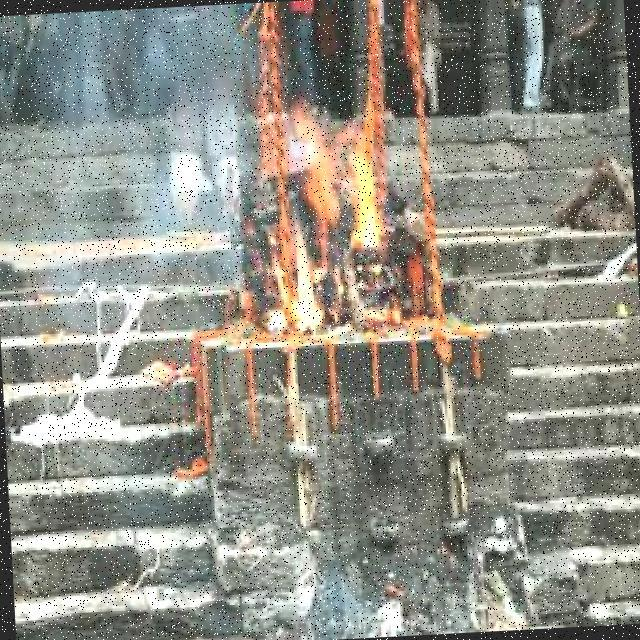Fire: (258, 98, 398, 334)
